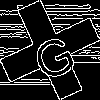G: (25, 25, 79, 83)
